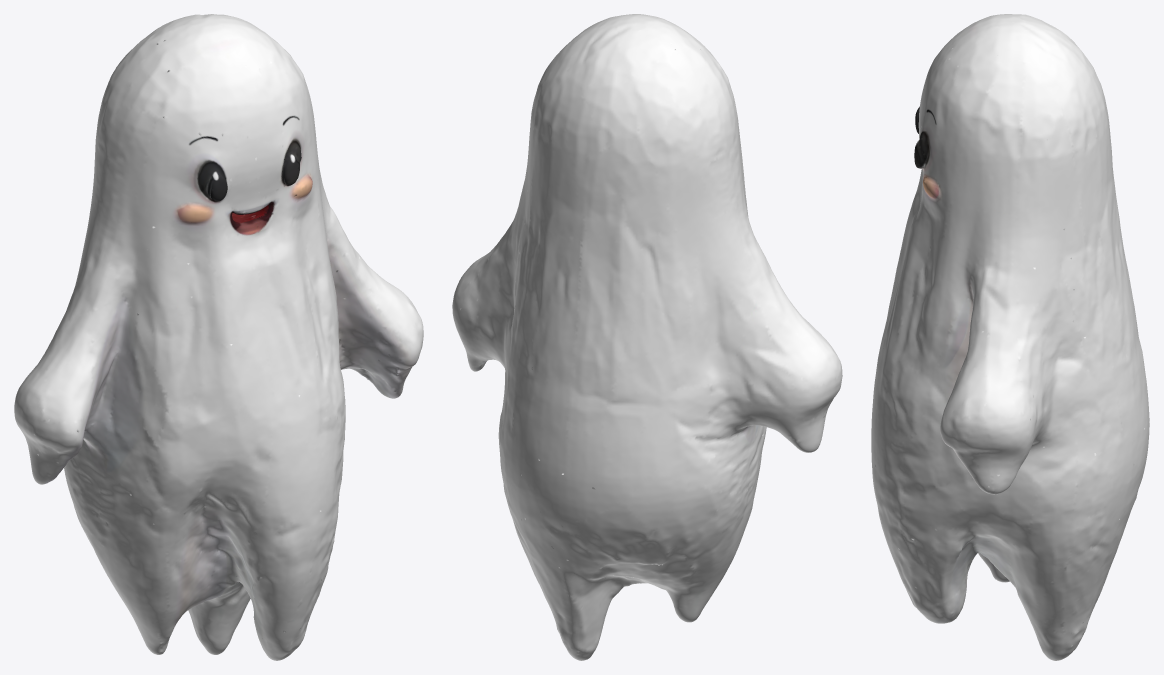
The model's file is cute ghost.glb.
3 views of the same model, side by side, from view 1: azimuth 30°, elevation 25°; view 2: azimuth 150°, elevation 25°; view 3: azimuth 270°, elevation 25° (orthographic). The views are drawn at different scales.
Visible parts, largest first — view 1: Mesh_0.001; view 2: Mesh_0.001; view 3: Mesh_0.001.
Boxes of the visible parts, left/top/right/bottom form: Mesh_0.001: left=14, top=14, right=423, bottom=660; Mesh_0.001: left=452, top=14, right=842, bottom=660; Mesh_0.001: left=871, top=14, right=1149, bottom=660.
Size of the model in its own units: 0.6246 by 1 by 0.4043.
Materials: 1 (1 with a texture image).
